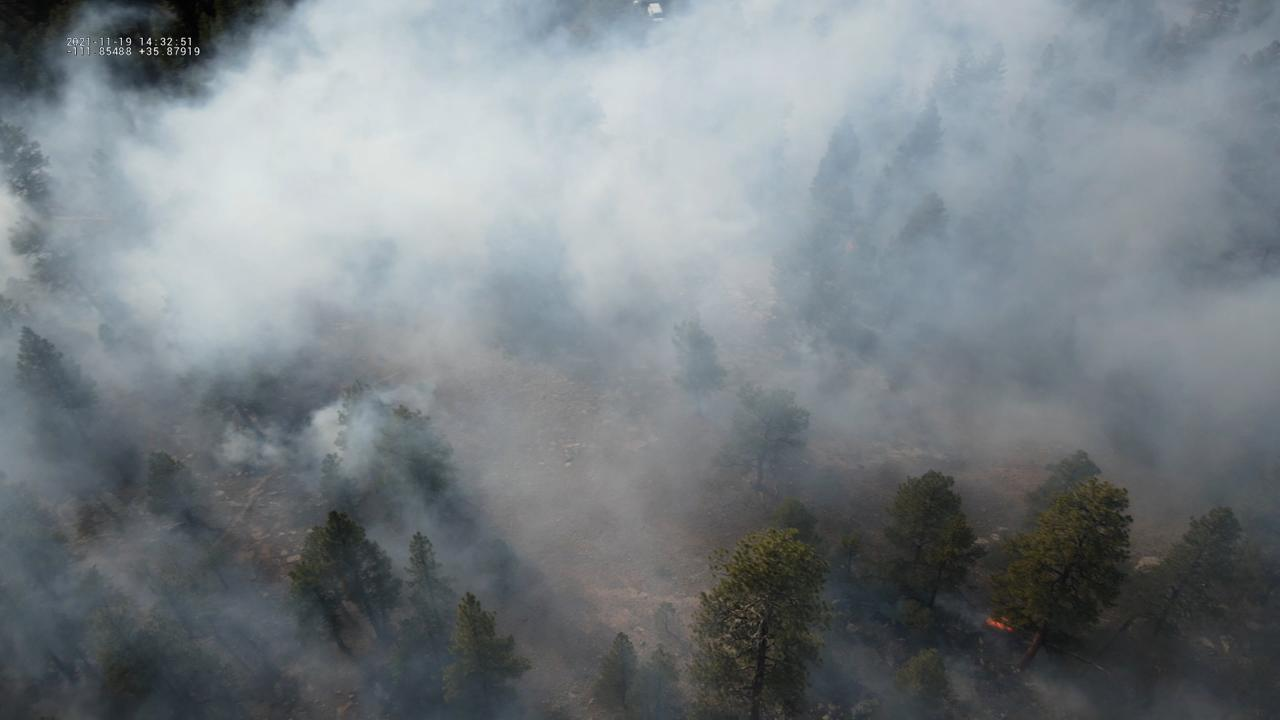fire: (985, 615, 1015, 634)
smoke: (0, 0, 1280, 720)
